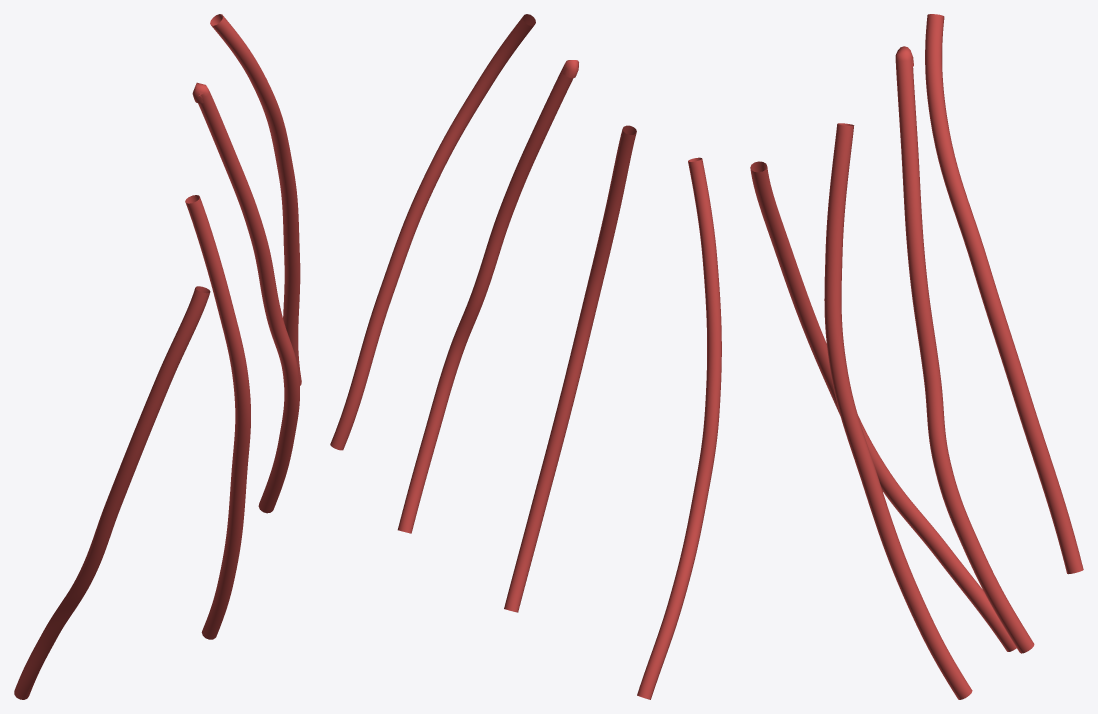
3 renders of one model, left to right at view 1: azimuth 30°, elevation 25°; view 2: azimuth 150°, elevation 25°; view 3: azimuth 270°, elevation 25°, orthographic. The views are drawn at different scales.
Parts seen in each view (by area): view 1: 左侧跖足底动脉; view 2: 左侧跖足底动脉; view 3: 左侧跖足底动脉.
Boxes of the visible parts, bbox=[...] form: 左侧跖足底动脉: bbox=[14, 14, 301, 699]; 左侧跖足底动脉: bbox=[330, 14, 721, 699]; 左侧跖足底动脉: bbox=[750, 14, 1083, 699].
Size of the model in its own units: 0.0478 by 0.0963 by 0.0402.
